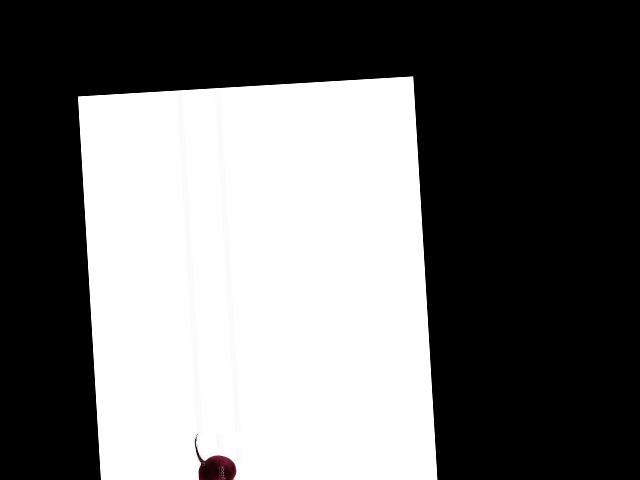beet: (194, 430, 247, 480)
